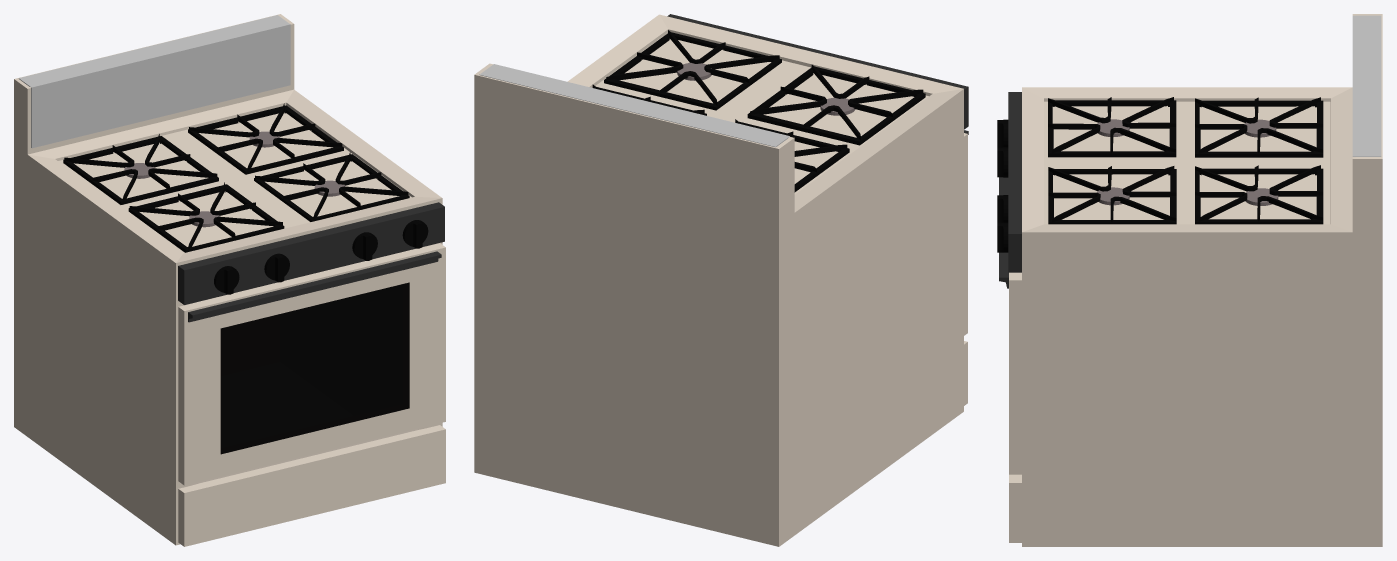
File: stove1.obj
3 renders of one model, left to right at view 1: azimuth 30°, elevation 25°; view 2: azimuth 150°, elevation 25°; view 3: azimuth 270°, elevation 25°, orthographic. The views are drawn at different scales.
Parts seen in each view (by area): view 1: stoveshell, ovenwindow, Ovendoor, PolyMesh_1, bottomstorage, Controlpanel, newcover_1, newcover_2, newcover_3, newcover, PolyMesh_4, knob_1 (+3 smaller); view 2: stoveshell, newcover_3, newcover, PolyMesh_1, newcover_2, Controlpanel, Ovendoor; view 3: stoveshell, newcover_3, newcover_2, PolyMesh_1, newcover_1, newcover, Ovendoor, Controlpanel, bottomstorage, PolyMesh_4.
Part boxes in pixels (x1,y1,x2,y2): stoveshell: [14, 14, 442, 545]; ovenwindow: [220, 282, 409, 454]; Ovendoor: [178, 243, 445, 485]; PolyMesh_1: [19, 15, 290, 148]; bottomstorage: [178, 425, 445, 546]; Controlpanel: [178, 202, 444, 304]; newcover_1: [188, 103, 343, 174]; newcover_2: [63, 134, 218, 204]; newcover_3: [128, 182, 284, 252]; newcover: [254, 152, 409, 221]; PolyMesh_4: [188, 251, 441, 322]; knob_1: [352, 232, 377, 260]; stoveshell: [474, 14, 963, 546]; newcover_3: [747, 64, 925, 145]; newcover: [604, 30, 781, 110]; PolyMesh_1: [479, 64, 789, 147]; newcover_2: [735, 119, 849, 192]; Controlpanel: [667, 14, 968, 129]; Ovendoor: [964, 133, 967, 335]; stoveshell: [1022, 14, 1382, 546]; newcover_3: [1048, 97, 1176, 157]; newcover_2: [1195, 97, 1323, 157]; PolyMesh_1: [1352, 15, 1381, 156]; newcover_1: [1195, 165, 1323, 224]; newcover: [1048, 166, 1176, 224]; Ovendoor: [1009, 272, 1021, 474]; Controlpanel: [1008, 92, 1021, 272]; bottomstorage: [1009, 474, 1021, 542]; PolyMesh_4: [999, 177, 1008, 288].
Size of the model in its own units: 6.12 by 7.64 by 6.87.
